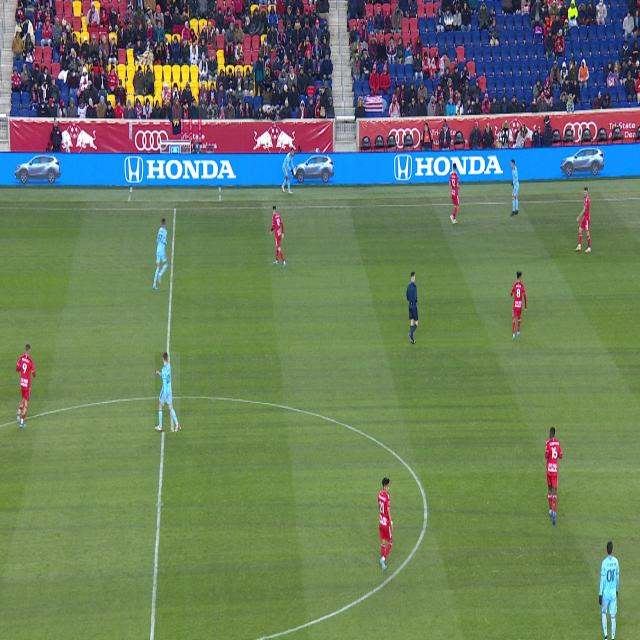player: (599, 542, 620, 639), (156, 352, 180, 432), (15, 343, 35, 428), (545, 426, 562, 525), (378, 478, 394, 571), (511, 272, 527, 341), (153, 219, 168, 290), (575, 187, 591, 253), (270, 206, 286, 268), (448, 164, 462, 225), (511, 160, 519, 217)
referee: (406, 271, 418, 344)
